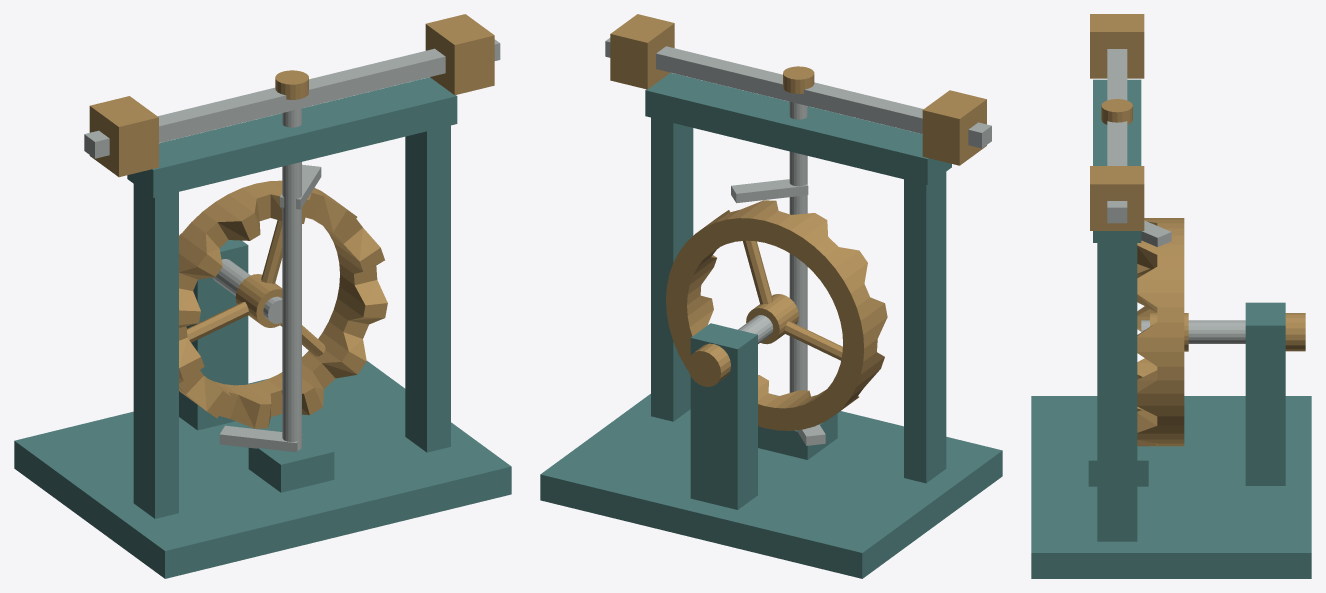
The picture shows the model from 3 angles, left to right: view 1: azimuth 30°, elevation 25°; view 2: azimuth 150°, elevation 25°; view 3: azimuth 270°, elevation 25°; orthographic projection. The views are drawn at different scales.
Parts seen in each view (by area): view 1: WholeGroundedCommonFoot, WholeAxiallyToothedOpenCrownRing, WholeUpperSpindleBearingBridge, LeftWholeUprightFramePost, RightWholeUprightFramePost, WholeTopTransverseBalanceBar, WholeVerticalPalletSpindle, WholeRearWheelBearingStandard, LeftWholeFixedEndWeight, RightWholeFixedEndWeight, WholeLowerSpindleRoot, WholeOpposedPalletPlate1 (+6 smaller); view 2: WholeGroundedCommonFoot, WholeAxiallyToothedOpenCrownRing, WholeUpperSpindleBearingBridge, LeftWholeUprightFramePost, WholeRearWheelBearingStandard, RightWholeUprightFramePost, WholeTopTransverseBalanceBar, LeftWholeFixedEndWeight, RightWholeFixedEndWeight, WholeVerticalPalletSpindle, WholeLowerSpindleRoot, WholeRearProudShaftRetainer (+5 smaller); view 3: WholeGroundedCommonFoot, RightWholeUprightFramePost, WholeAxiallyToothedOpenCrownRing, WholeRearWheelBearingStandard, RightWholeFixedEndWeight, LeftWholeFixedEndWeight, WholeUpperSpindleBearingBridge, WholeTopTransverseBalanceBar, WholeHorizontalCrownWheelShaft, WholeLowerSpindleRoot, WholeRearProudShaftRetainer, WholeProudTopSpindleCap (+1 smaller).
Boxes of the visible parts, left/top/right/bottom form: WholeGroundedCommonFoot: left=14, top=361, right=511, bottom=578; WholeAxiallyToothedOpenCrownRing: left=179, top=180, right=387, bottom=428; WholeUpperSpindleBearingBridge: left=127, top=77, right=457, bottom=197; LeftWholeUprightFramePost: left=133, top=184, right=178, bottom=518; RightWholeUprightFramePost: left=405, top=125, right=450, bottom=452; WholeTopTransverseBalanceBar: left=84, top=39, right=500, bottom=158; WholeVerticalPalletSpindle: left=282, top=108, right=301, bottom=450; WholeRearWheelBearingStandard: left=179, top=240, right=248, bottom=430; LeftWholeFixedEndWeight: left=89, top=96, right=158, bottom=177; RightWholeFixedEndWeight: left=425, top=14, right=494, bottom=95; WholeLowerSpindleRoot: left=248, top=428, right=334, bottom=492; WholeOpposedPalletPlate1: left=219, top=425, right=302, bottom=452; WholeGroundedCommonFoot: left=540, top=394, right=1002, bottom=578; WholeAxiallyToothedOpenCrownRing: left=666, top=200, right=887, bottom=430; WholeUpperSpindleBearingBridge: left=645, top=73, right=951, bottom=184; LeftWholeUprightFramePost: left=904, top=172, right=946, bottom=483; WholeRearWheelBearingStandard: left=690, top=323, right=757, bottom=509; RightWholeUprightFramePost: left=651, top=117, right=693, bottom=421; WholeTopTransverseBalanceBar: left=605, top=38, right=991, bottom=148; LeftWholeFixedEndWeight: left=922, top=90, right=986, bottom=165; RightWholeFixedEndWeight: left=610, top=14, right=674, bottom=89; WholeVerticalPalletSpindle: left=789, top=102, right=807, bottom=392; WholeLowerSpindleRoot: left=758, top=413, right=837, bottom=459; WholeRearProudShaftRetainer: left=687, top=343, right=730, bottom=386; WholeGroundedCommonFoot: left=1031, top=396, right=1311, bottom=578; RightWholeUprightFramePost: left=1097, top=243, right=1137, bottom=541; WholeAxiallyToothedOpenCrownRing: left=1137, top=218, right=1184, bottom=446; WholeRearWheelBearingStandard: left=1245, top=302, right=1285, bottom=485; RightWholeFixedEndWeight: left=1090, top=166, right=1144, bottom=230; LeftWholeFixedEndWeight: left=1090, top=14, right=1144, bottom=78; WholeUpperSpindleBearingBridge: left=1093, top=79, right=1141, bottom=242; WholeTopTransverseBalanceBar: left=1107, top=49, right=1127, bottom=223; WholeHorizontalCrownWheelShaft: left=1141, top=320, right=1245, bottom=343; WholeLowerSpindleRoot: left=1088, top=436, right=1148, bottom=486; WholeRearProudShaftRetainer: left=1285, top=313, right=1305, bottom=351; WholeProudTopSpindleCap: left=1101, top=99, right=1132, bottom=124.
Size of the model in its own units: 1.52 by 1.55 by 0.98.
